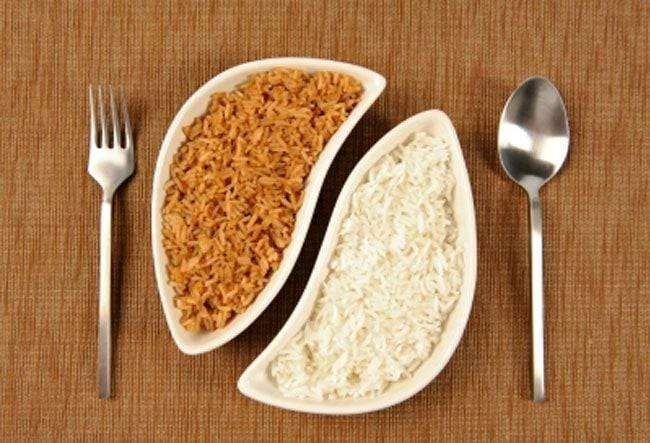WhiteRice: (269, 128, 465, 405)
